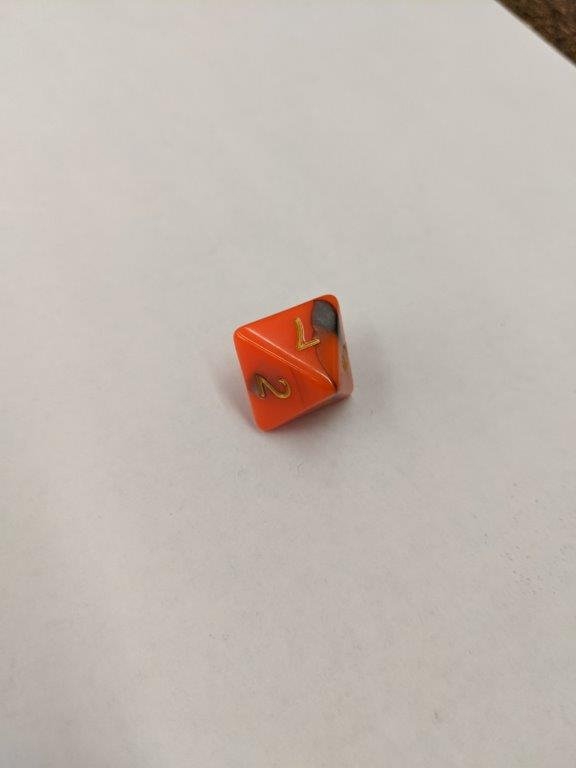d8-7: (233, 293, 354, 431)
